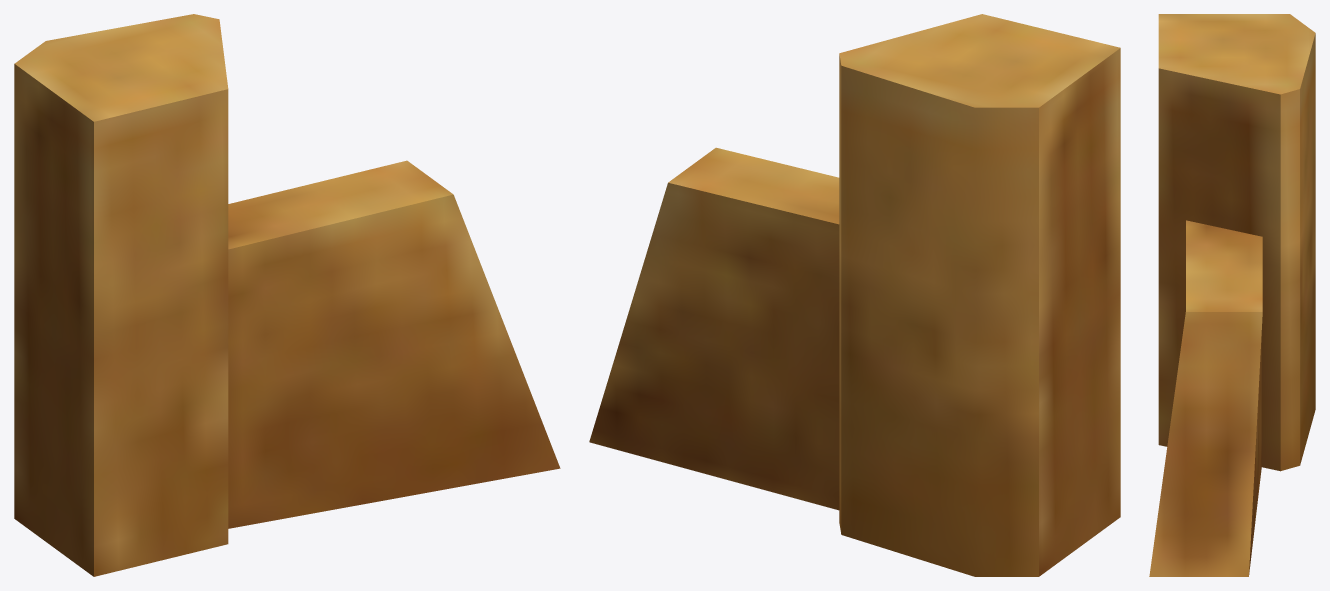
The model's file is Stage_ShaMo_XiaoShiKuai05.FBX.
3 views of the same model, side by side, from view 1: azimuth 30°, elevation 25°; view 2: azimuth 150°, elevation 25°; view 3: azimuth 270°, elevation 25° (orthographic). The views are drawn at different scales.
Visible parts, largest first — view 1: Stage_ShaMo_XiaoShiKuai05; view 2: Stage_ShaMo_XiaoShiKuai05; view 3: Stage_ShaMo_XiaoShiKuai05.
Boxes of the visible parts, x1=… form: Stage_ShaMo_XiaoShiKuai05: x1=14, y1=14, x2=560, y2=576; Stage_ShaMo_XiaoShiKuai05: x1=589, y1=14, x2=1120, y2=576; Stage_ShaMo_XiaoShiKuai05: x1=1149, y1=14, x2=1315, y2=576.
Size of the model in its own units: 75.17 by 70.9 by 28.36.
